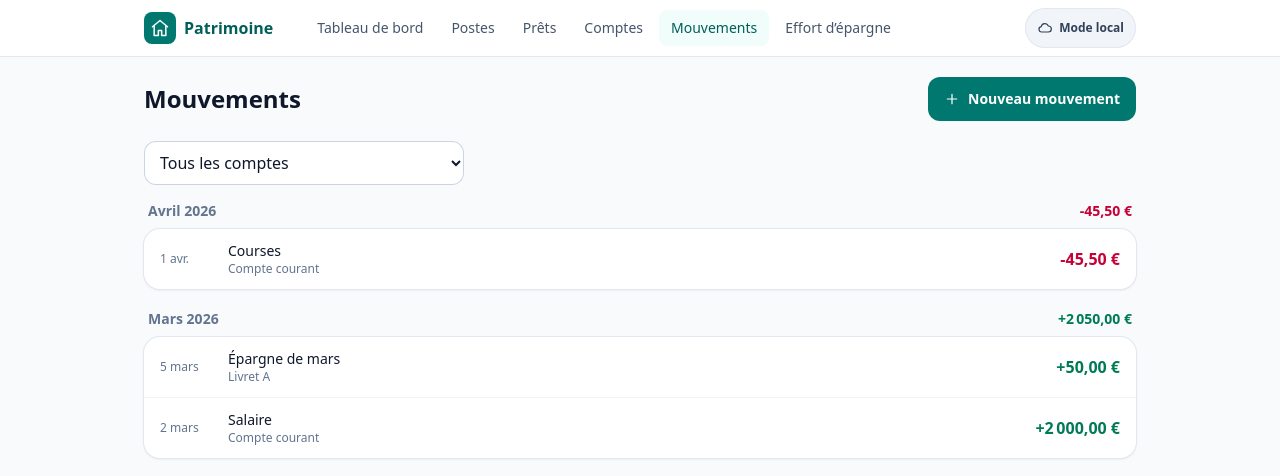
Test: Application › affiche les mouvements par mois et les filtre par compte
Expected: the text "Salaire" is shown, [228,410,272,429]
Expected: the text "Épargne de mars" is shown, [228,349,340,368]
Select "Livret A" in the dropdown named "Filtrer par compte": [304, 163] box [144,141,464,185]
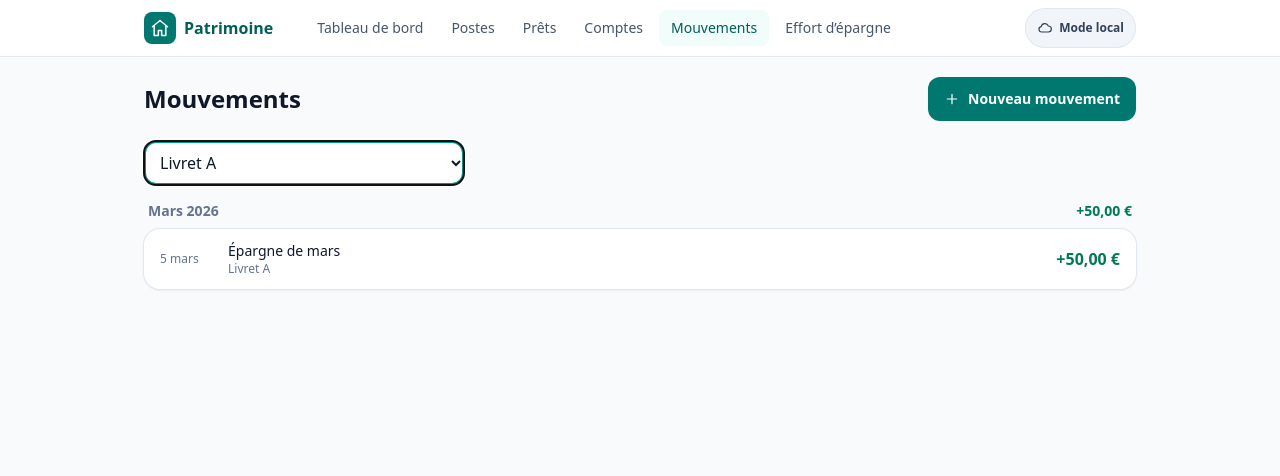
Expected: the text "Épargne de mars" is shown, [228,241,340,260]
Expected: the button "Salaire" is gone
